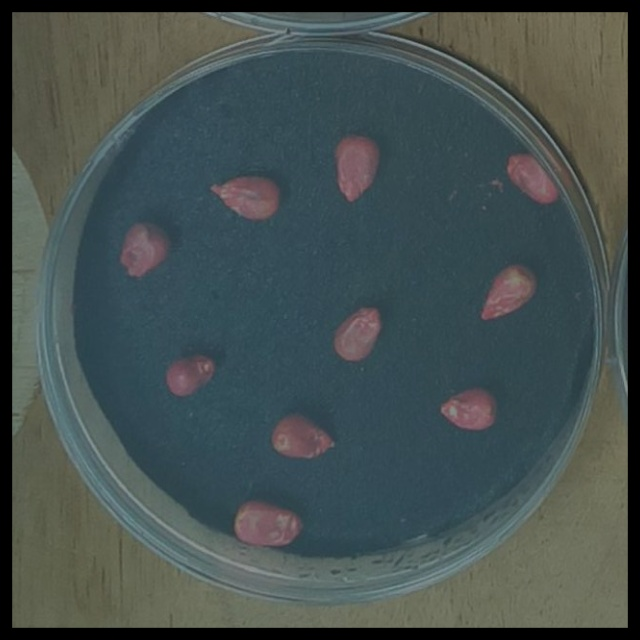Zea mays: (327, 125, 387, 209), (472, 256, 543, 326), (203, 168, 286, 227), (228, 493, 309, 553), (265, 405, 343, 464), (112, 214, 176, 283), (327, 298, 390, 368), (501, 144, 566, 210), (433, 380, 506, 436), (159, 345, 221, 401)
